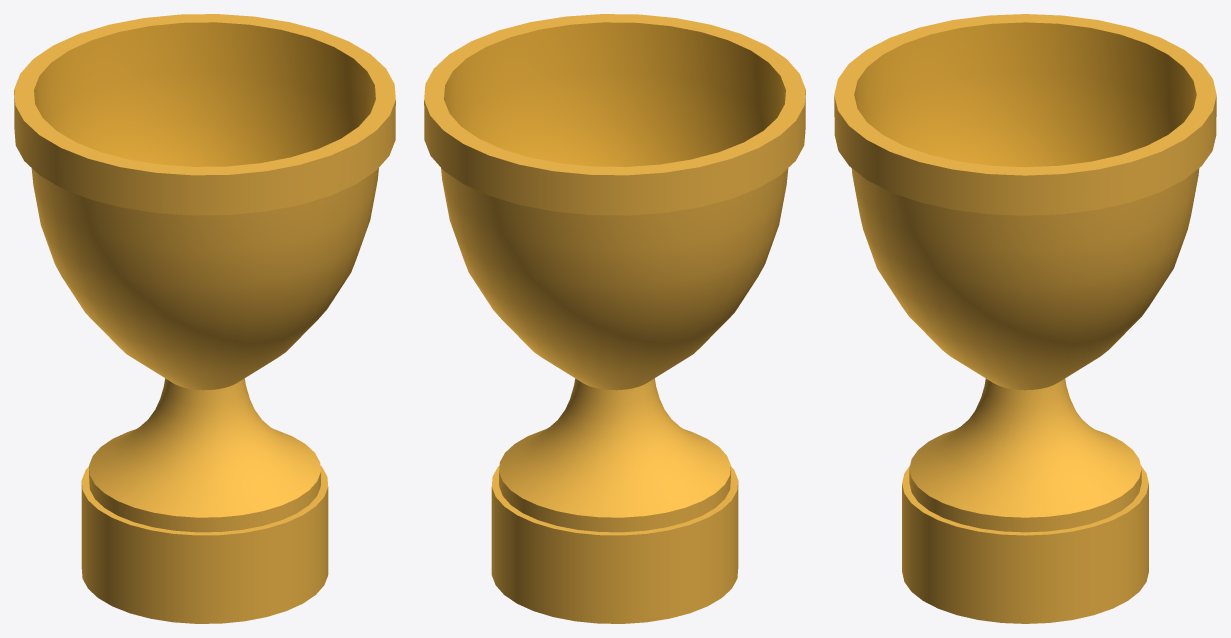
Rendered from Goblet A Multi.fbx.
The picture shows the model from 3 angles, left to right: view 1: azimuth 30°, elevation 25°; view 2: azimuth 150°, elevation 25°; view 3: azimuth 270°, elevation 25°; orthographic projection.
Parts seen in each view (by area): view 1: Goblet A; view 2: Goblet A; view 3: Goblet A.
Boxes of the visible parts, x1,y1,x2,y2 form: Goblet A: (14, 14, 395, 623); Goblet A: (424, 14, 805, 623); Goblet A: (834, 14, 1216, 623).
Bounding box in the file's own units: 0.4494 × 0.6185 × 0.4494.
